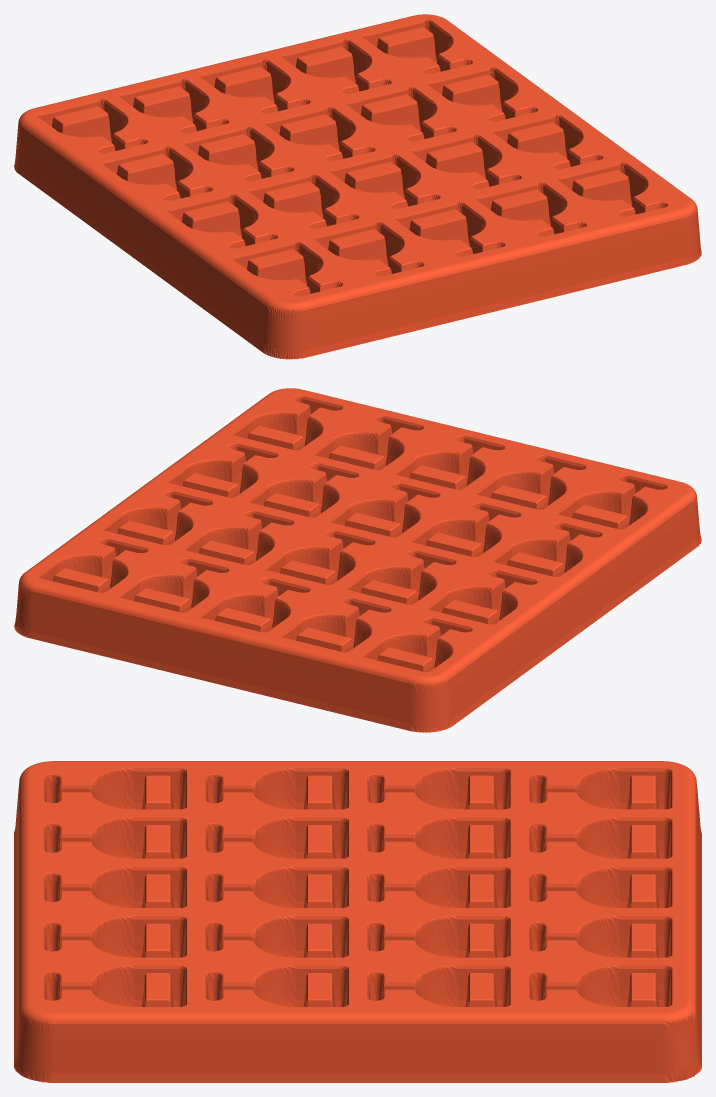
Rendered from mold.glb.
3 renders of one model, top to bottom at view 1: azimuth 30°, elevation 25°; view 2: azimuth 150°, elevation 25°; view 3: azimuth 270°, elevation 25°, orthographic. The views are drawn at different scales.
Parts seen in each view (by area): view 1: geometry_0; view 2: geometry_0; view 3: geometry_0.
Part boxes in pixels (x1,y1,x2,y2): geometry_0: (14, 14, 701, 359); geometry_0: (14, 388, 701, 732); geometry_0: (14, 761, 701, 1082).
Bounding box in the file's own units: 0.1419 × 0.0159 × 0.1563.
